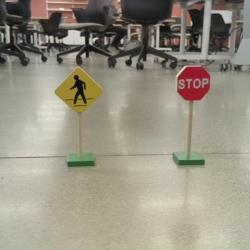pedestrian_crossing: (54, 66, 104, 114)
stop: (175, 65, 210, 101)
